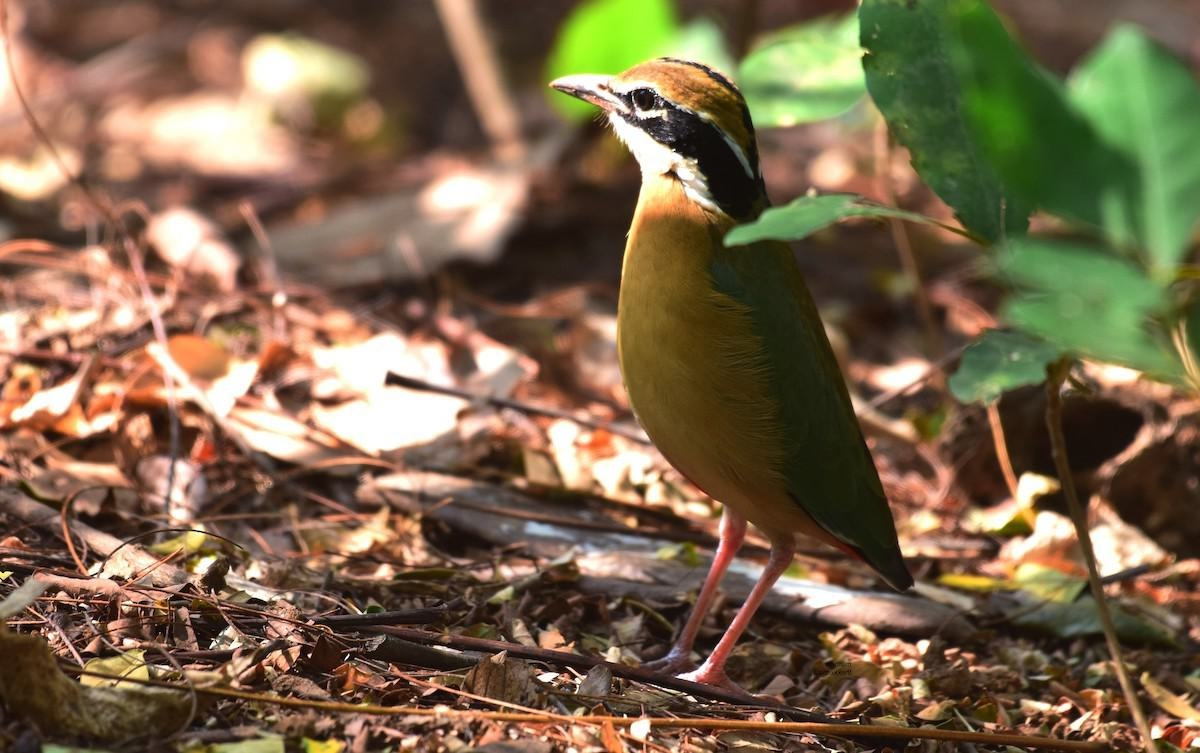pitta: (539, 41, 926, 649)
